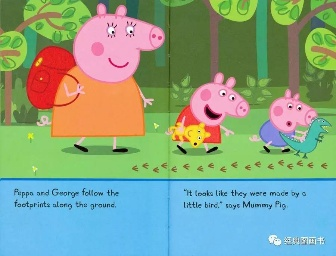Peppa: (166, 72, 251, 156)
